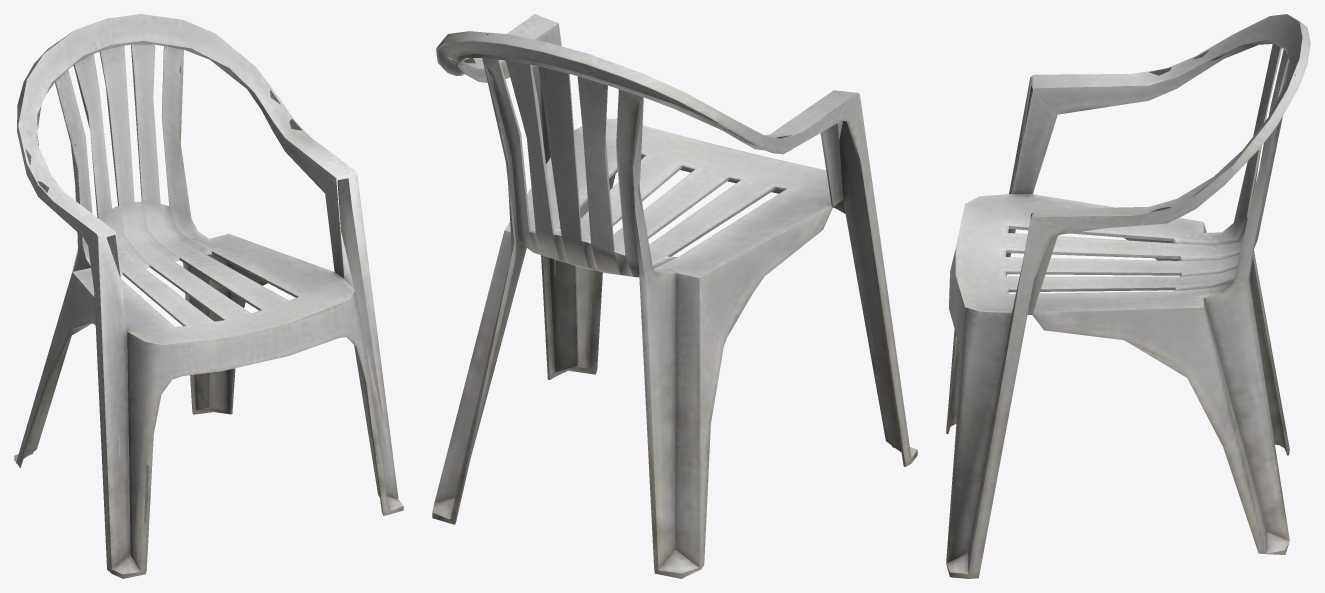
The model's file is plastic_monobloc_chair_01.glb.
The picture shows the model from 3 angles, left to right: view 1: azimuth 30°, elevation 25°; view 2: azimuth 150°, elevation 25°; view 3: azimuth 270°, elevation 25°; orthographic projection. The views are drawn at different scales.
Visible parts, largest first — view 1: plastic_monobloc_chair_01; view 2: plastic_monobloc_chair_01; view 3: plastic_monobloc_chair_01.
Boxes of the visible parts, <box> form: plastic_monobloc_chair_01: <box>14,14,403,578</box>; plastic_monobloc_chair_01: <box>432,14,917,578</box>; plastic_monobloc_chair_01: <box>946,14,1310,578</box>.
Bounding box in the file's own units: 0.6419 × 0.8798 × 0.6276.
1 material, 1 textured.
